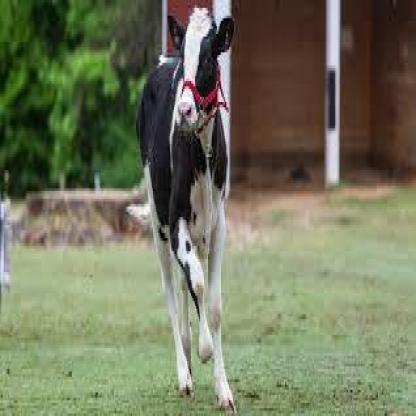cow: (140, 5, 235, 406)
